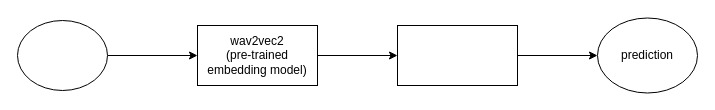
This 715x110 diagram has some shape labels left out. The shapes that lost their labels are listed below. From the top down, each one's box as (x1, y1, x2, y2) in pixels, then its label:
(16, 20, 108, 90): input audio
(396, 24, 518, 86): Dense nn layers (we make these layers)
